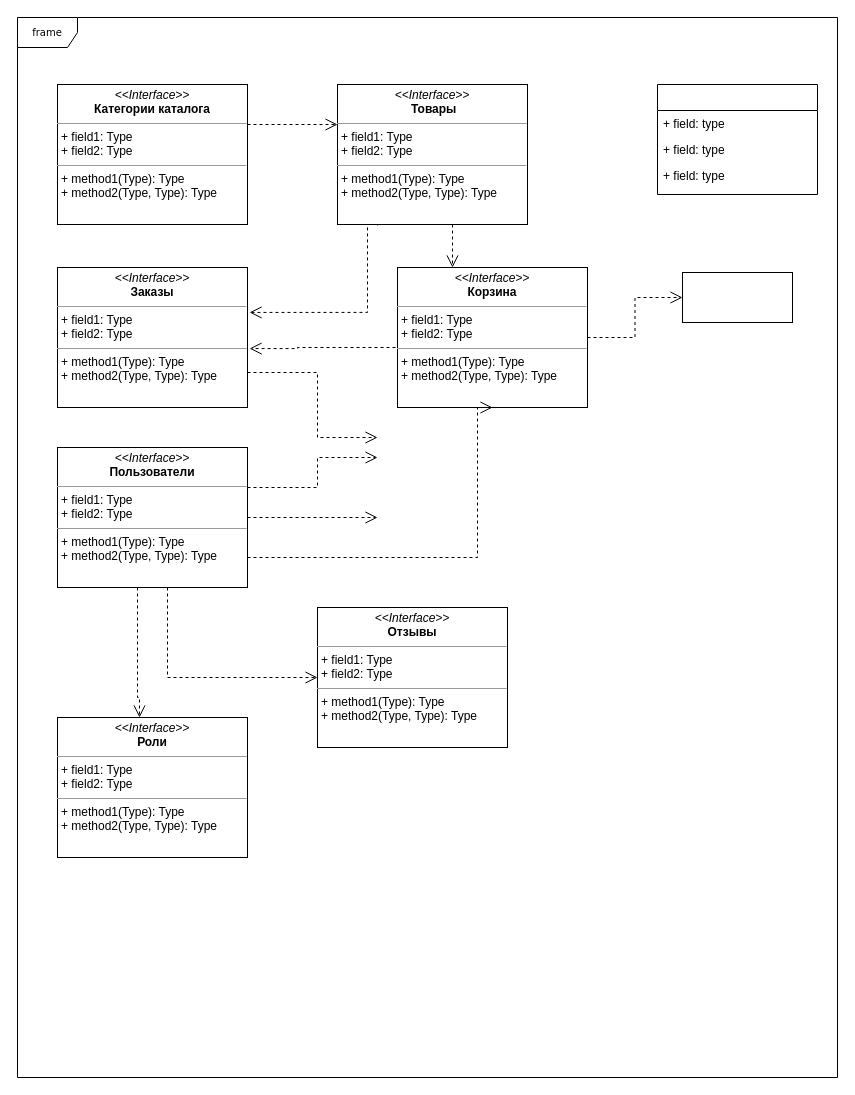
The diagram is 855 pixels wide and 1095 high, and some of its shapes have lost their labels. Here are the shapes that lost their labels. From the top down, the box of each, then its label:
(656, 84, 818, 194): Classname
(682, 272, 792, 322): «interface» Name
